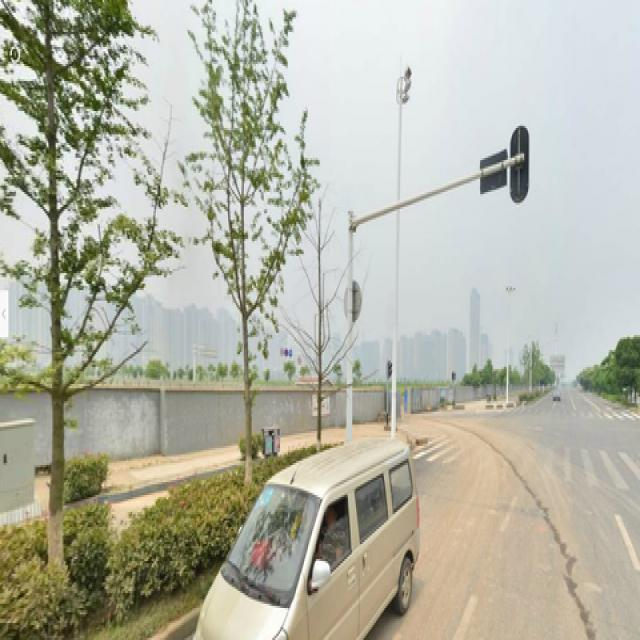gink: (2, 7, 134, 536), (215, 19, 288, 484)
